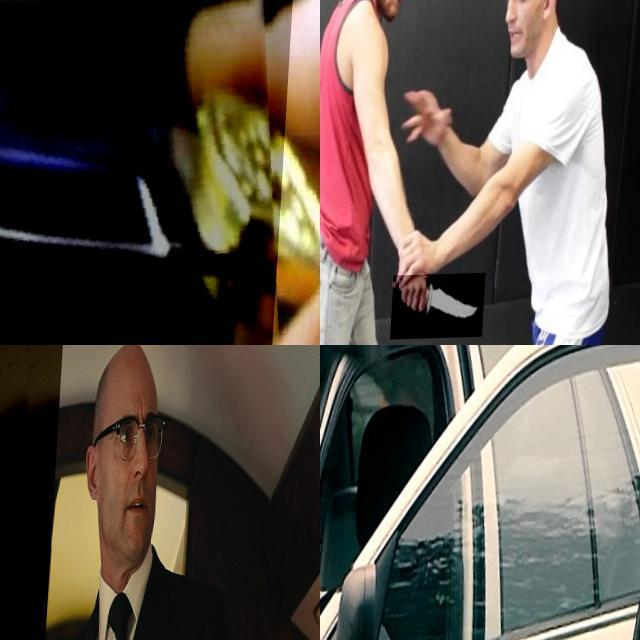-: (0, 0, 294, 345), (396, 275, 490, 341)
gun-knife-thesis - v11 Yolov5 augmented: (0, 345, 77, 640)
